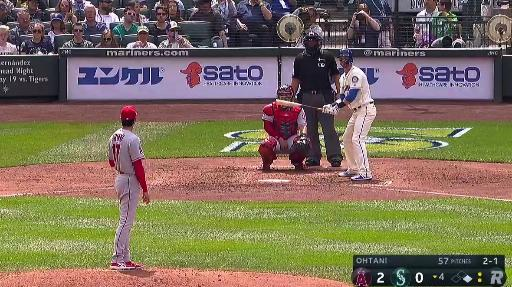pitcher: (107, 104, 153, 270)
